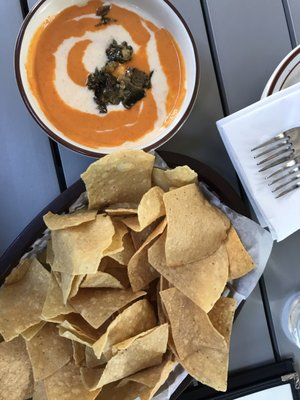sushi: (14, 0, 201, 157)
